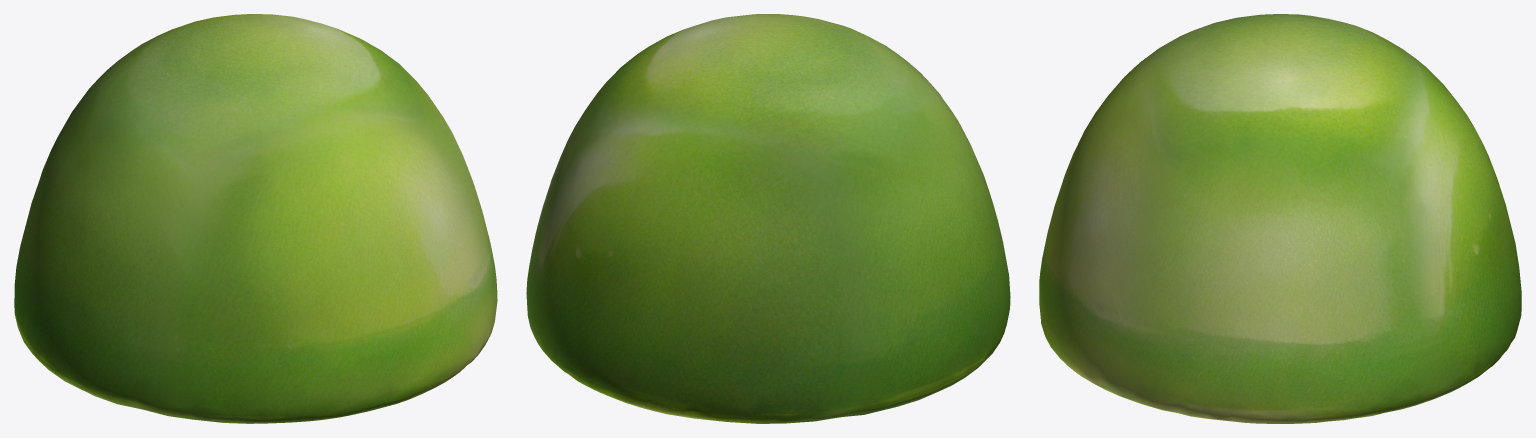
The model's file is Enemy_Slime.fbx.
The picture shows the model from 3 angles, left to right: view 1: azimuth 30°, elevation 25°; view 2: azimuth 150°, elevation 25°; view 3: azimuth 270°, elevation 25°; orthographic projection.
Parts seen in each view (by area): view 1: texture_mapping; view 2: texture_mapping; view 3: texture_mapping.
Part boxes in pixels (x1,y1,x2,y2): texture_mapping: (14, 14, 497, 423); texture_mapping: (526, 14, 1010, 423); texture_mapping: (1039, 14, 1521, 423).
Bounding box in the file's own units: 0.9998 × 0.9996 × 0.6812.
Materials: 1 (1 with a texture image).
